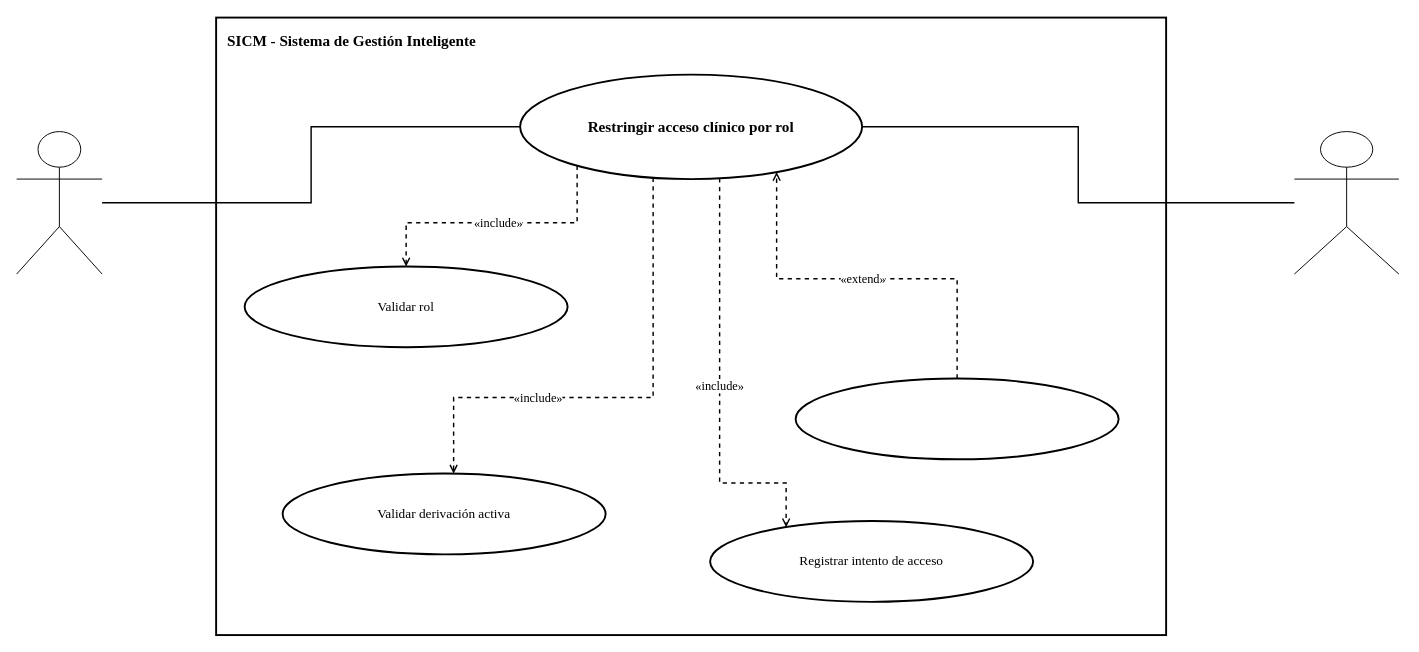
Some shapes in this 1419 by 652 pixel diagram are drawn without their labels. The centre of each missing label's shape, as x and y in pixels:
"Administrador" belongs at [59,202].
"Denegar acceso" belongs at [956,418].
"Usuario del sistema" belongs at [1346,202].
